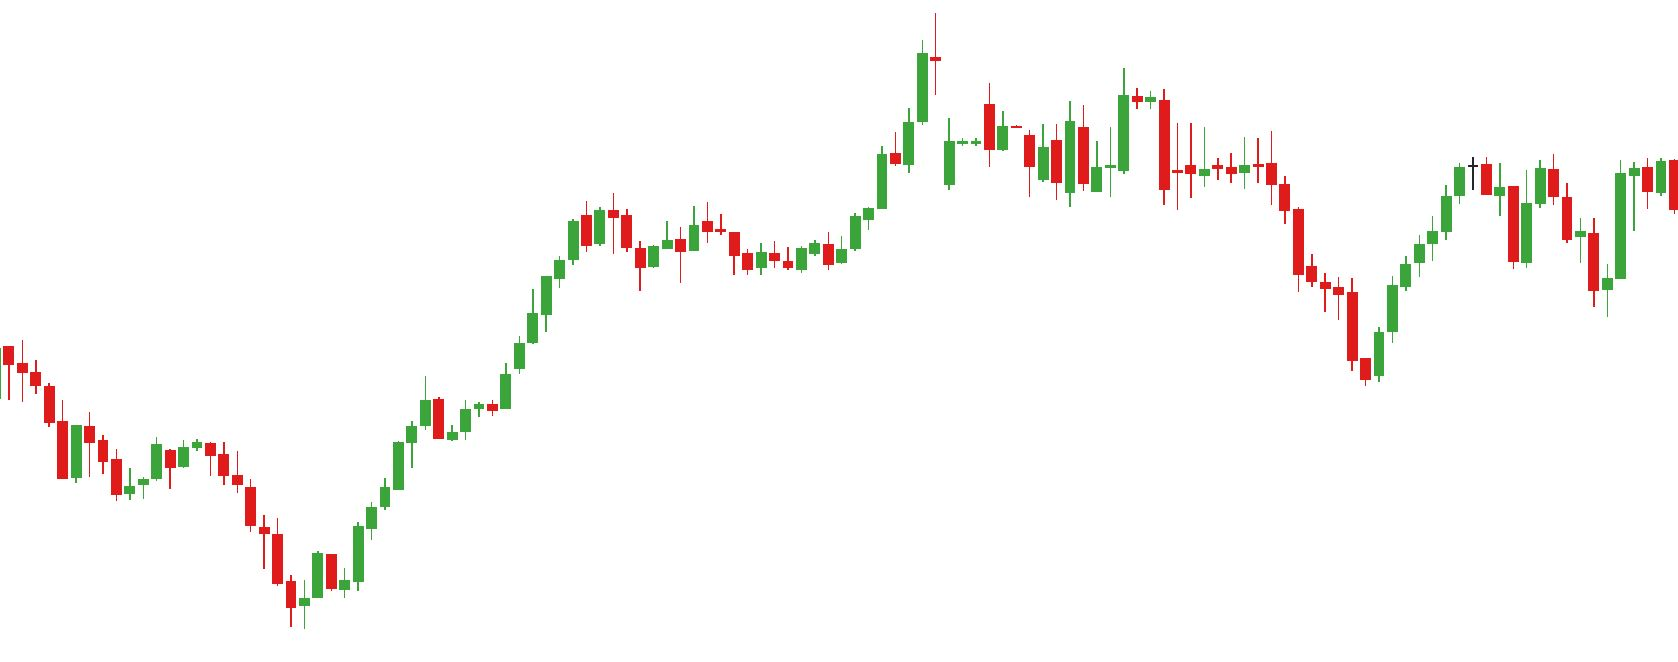sell: (980, 70, 1145, 148)
